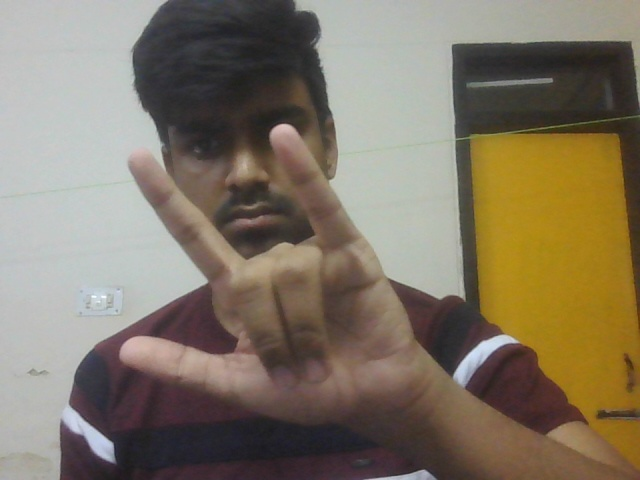iloveyou: (103, 117, 479, 450)
